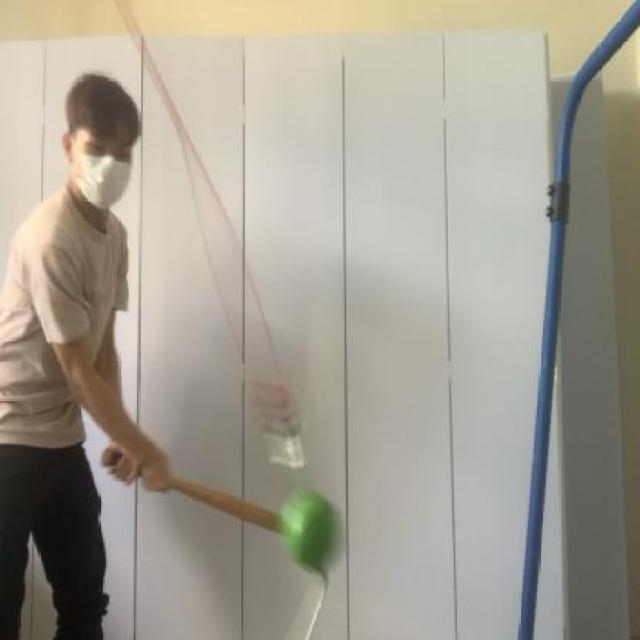baseball: (262, 468, 358, 600)
